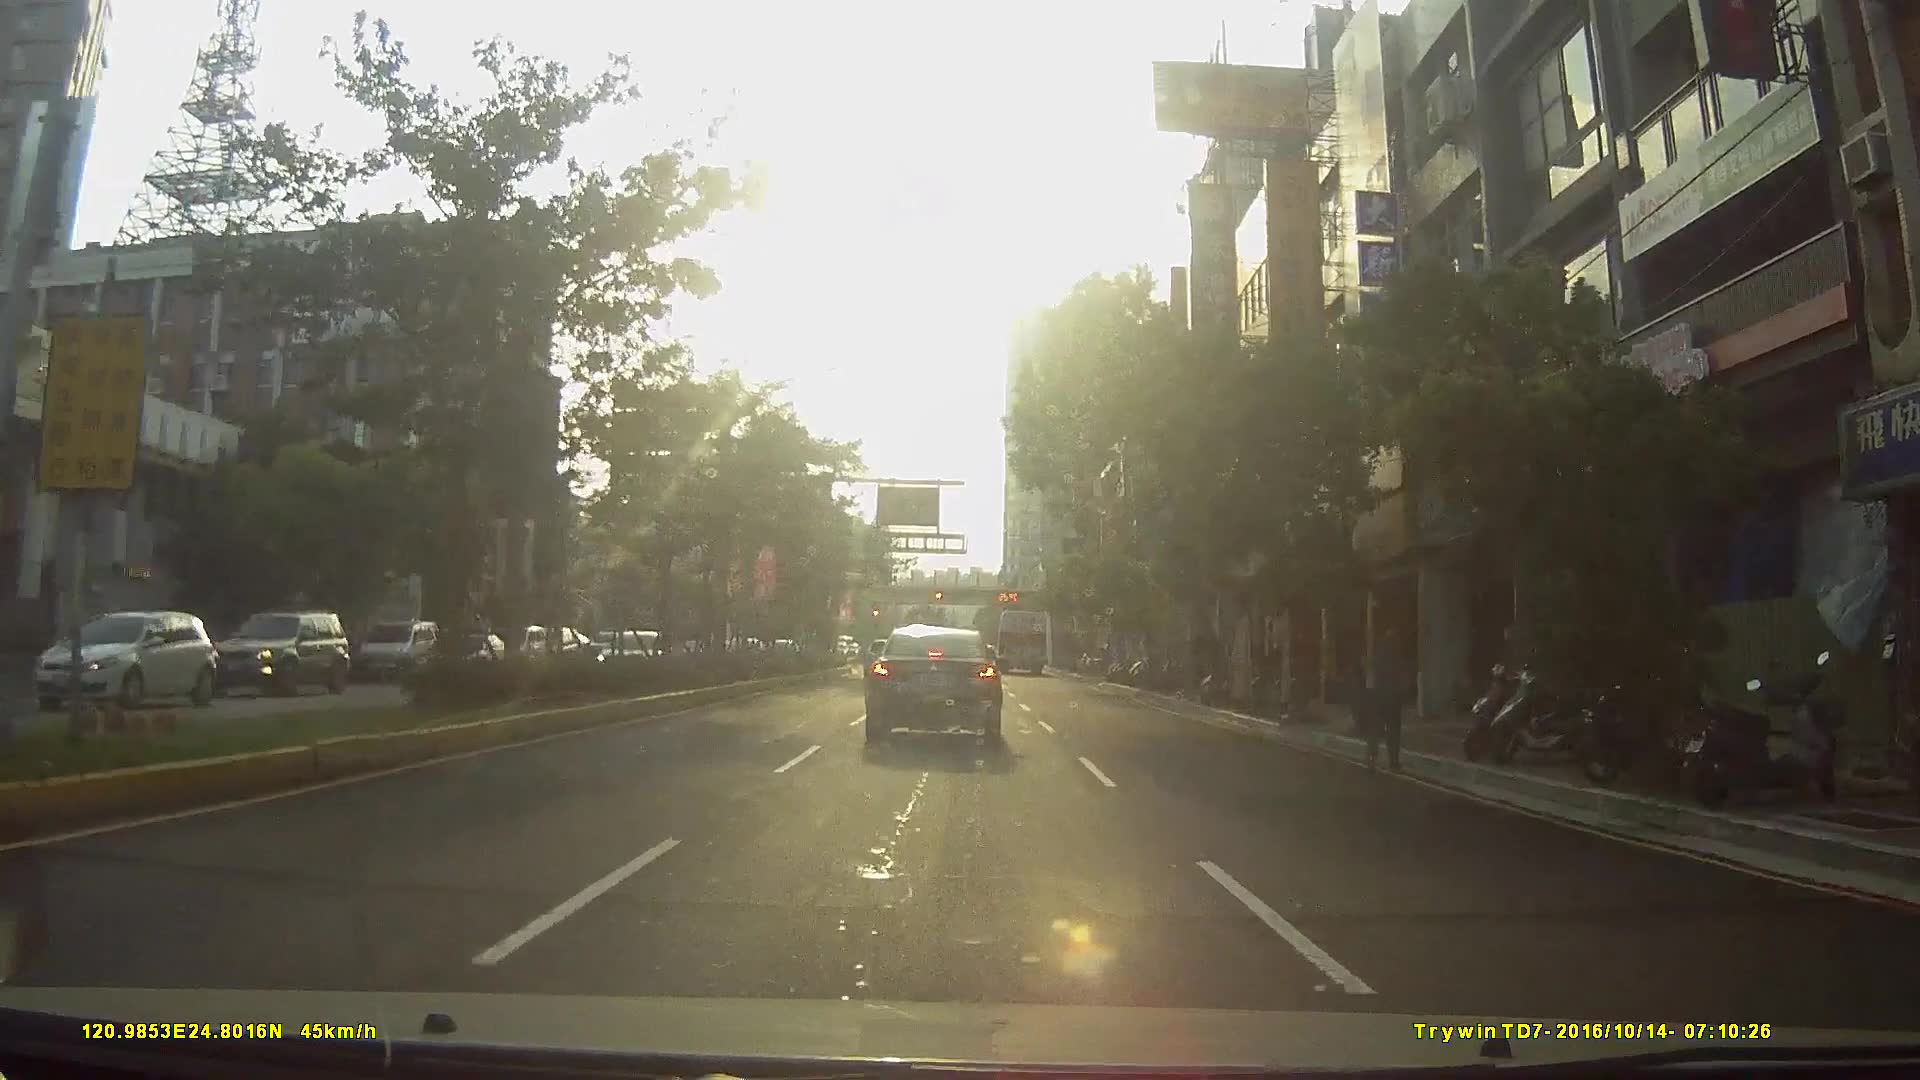pedestrian: (1353, 621, 1415, 765)
vehicle: (39, 602, 218, 708), (862, 621, 1003, 742), (198, 606, 354, 701), (351, 617, 437, 680), (996, 607, 1048, 674)
